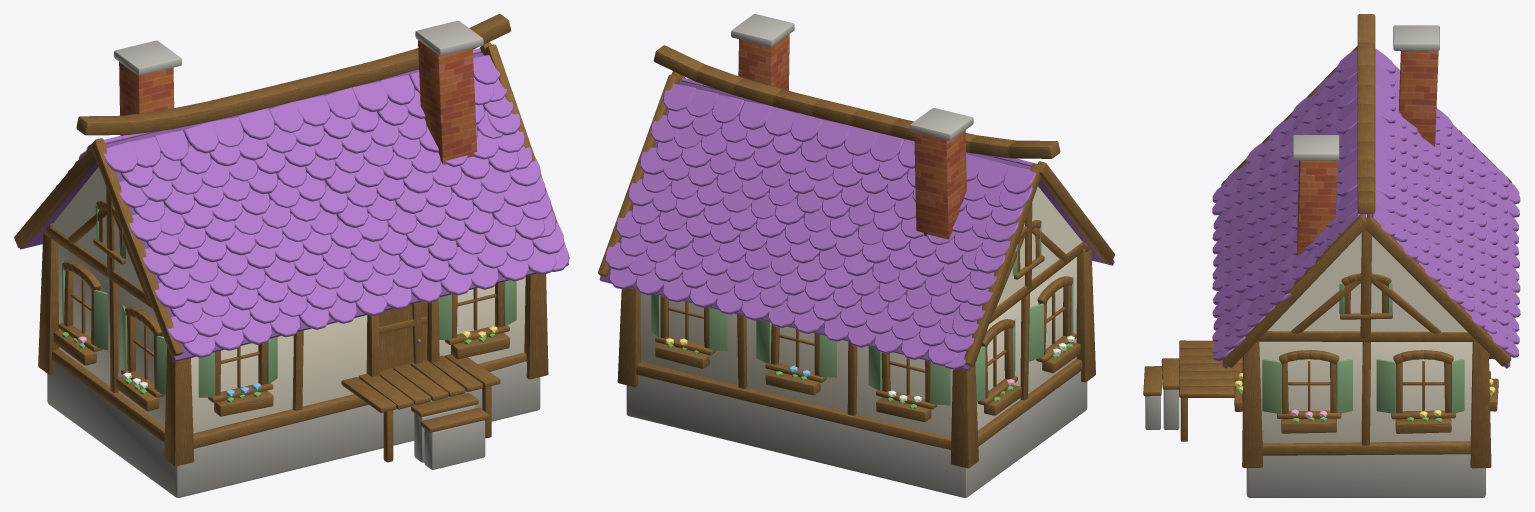
Rendered from longhouse_purple.gltf.
3 views of the same model, side by side, from view 1: azimuth 30°, elevation 25°; view 2: azimuth 150°, elevation 25°; view 3: azimuth 270°, elevation 25° (orthographic). The views are drawn at different scales.
Visible parts, largest first — view 1: longhouse_purple; view 2: longhouse_purple; view 3: longhouse_purple.
Part boxes in pixels (x1,y1,x2,y2): longhouse_purple: [14, 14, 569, 497]; longhouse_purple: [598, 14, 1114, 497]; longhouse_purple: [1143, 14, 1520, 497].
Bounding box in the file's own units: 8.66 × 7.02 × 7.26.
Materials: 15 (2 with a texture image).
